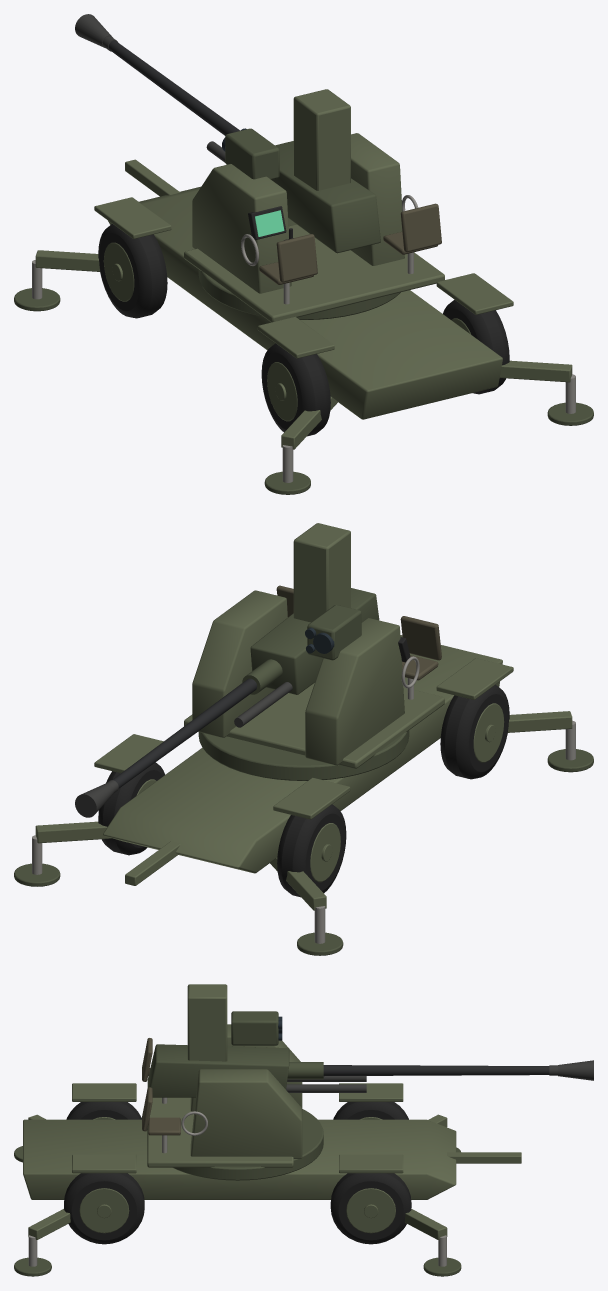
3 views of the same model, one above another, from view 1: azimuth 30°, elevation 25°; view 2: azimuth 150°, elevation 25°; view 3: azimuth 270°, elevation 25° (orthographic). The views are drawn at different scales.
Visible parts, largest first — view 1: prism, Cube.009, prism.001, prism.003, Cube.017, prism.002, Cylinder.005, Cylinder, Cube.018, Cone, Cylinder.010, Cube (+15 smaller); view 2: prism, prism.001, prism.002, Cube.009, Cube.017, Cylinder.020, prism.003, Cylinder, Cylinder.005, Cone, Cube.002, Cube (+16 smaller); view 3: prism, prism.002, prism.003, Cube.009, Cube.017, Cylinder.015, Cylinder.010, Cone, Cylinder.020, Cube.018, Cylinder.016, Cylinder.011 (+16 smaller).
Part boxes in pixels (<box>): prism: <box>108,186,502,419</box>; Cube.009: <box>184,224,444,322</box>; prism.001: <box>192,164,291,293</box>; prism.003: <box>272,141,380,253</box>; Cube.017: <box>293,89,350,190</box>; prism.002: <box>351,133,404,265</box>; Cylinder.005: <box>98,224,167,318</box>; Cylinder: <box>261,343,330,436</box>; Cube.018: <box>225,128,279,179</box>; Cone: <box>108,40,240,135</box>; Cylinder.010: <box>443,299,509,394</box>; Cube: <box>257,317,334,358</box>; prism: <box>103,635,502,873</box>; prism.001: <box>305,618,404,765</box>; prism.002: <box>192,590,287,737</box>; Cube.009: <box>184,682,444,768</box>; Cube.017: <box>293,523,350,622</box>; Cylinder.020: <box>198,730,409,780</box>; prism.003: <box>250,588,379,694</box>; Cylinder: <box>440,684,509,779</box>; Cylinder.005: <box>277,804,346,897</box>; Cone: <box>112,678,257,788</box>; Cube.002: <box>273,777,350,819</box>; Cube: <box>436,658,513,699</box>; prism: <box>23,1119,456,1199</box>; prism.002: <box>190,1069,302,1158</box>; prism.003: <box>147,1044,289,1097</box>; Cube.009: <box>147,1097,293,1167</box>; Cube.017: <box>187,984,227,1061</box>; Cylinder.015: <box>330,1173,411,1244</box>; Cylinder.010: <box>64,1173,144,1244</box>; Cone: <box>323,1065,549,1076</box>; Cylinder.020: <box>173,1109,323,1180</box>; Cube.018: <box>231,1011,278,1045</box>; Cylinder.016: <box>346,1188,395,1233</box>; Cylinder.011: <box>79,1188,129,1233</box>.
Bounding box in the file's own units: 3.54 × 2.85 × 6.74.
